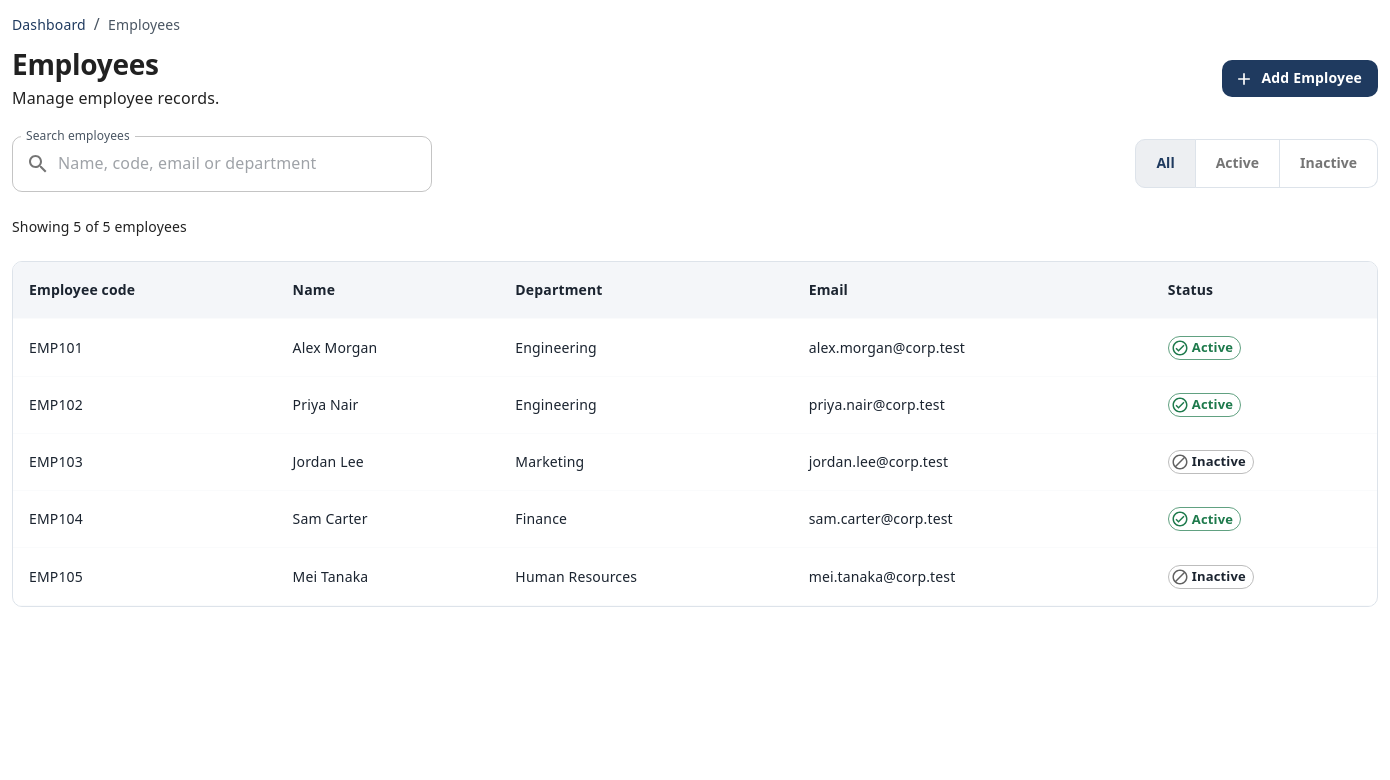
Scenario: searching and filtering › explains when nothing matches, and Clear filters brings everyone back
expect the text "Showing 5 of 5 employees" is shown: met, box [12,217,187,236]
In the search field labelled "Search employees": (245, 164) [58,136,432,192], type "zzz"
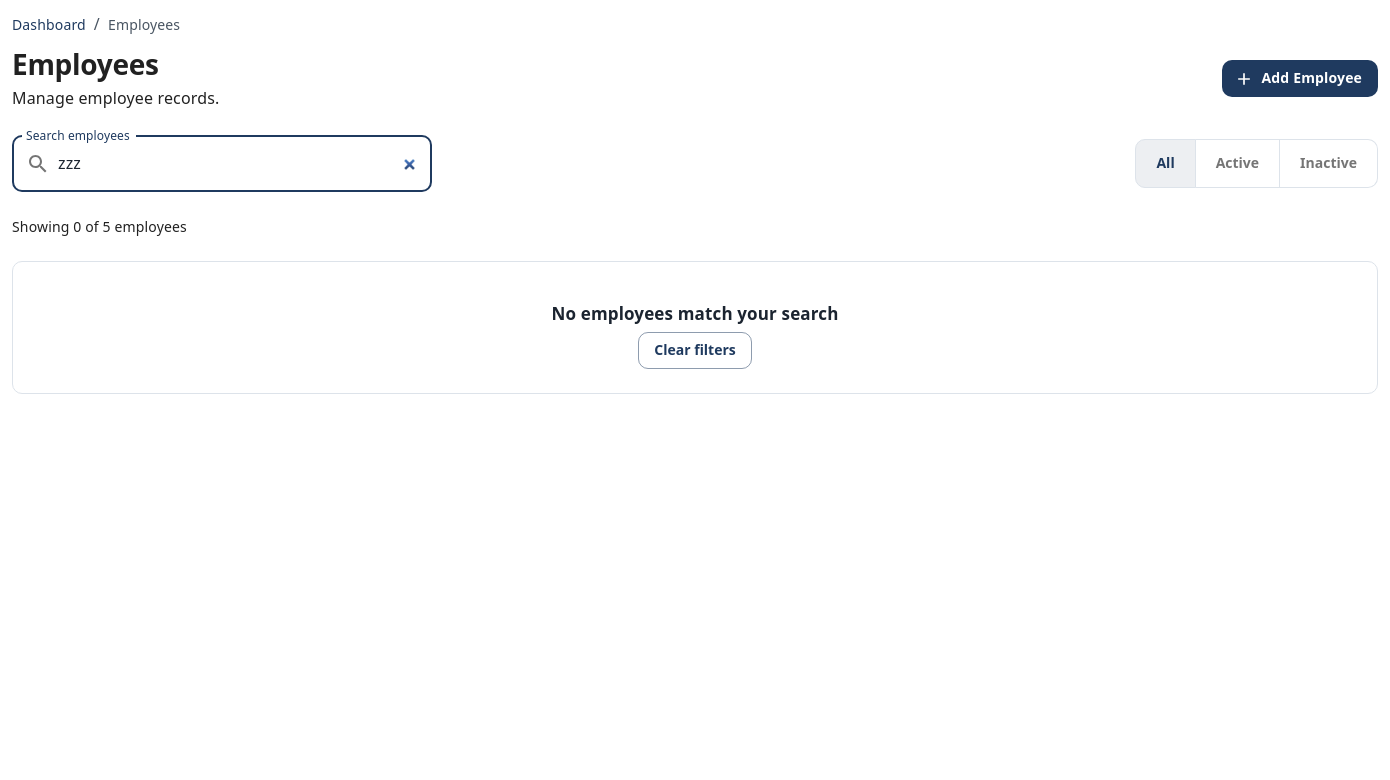
Click the button "Inactive": (1329, 164) [1279,139,1378,188]
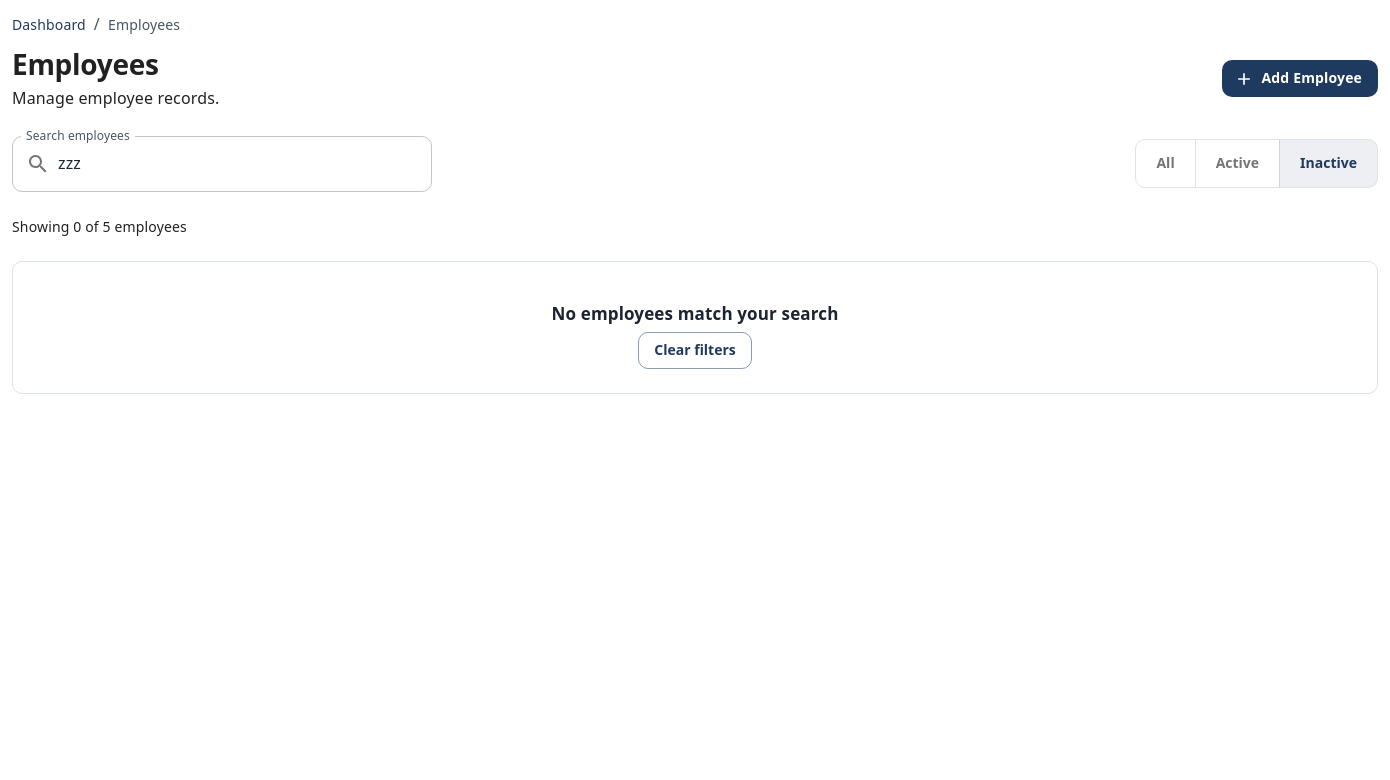
expect the heading "No employees match your search" is shown: met, box [552,302,838,325]
expect the text "Showing 0 of 5 employees" is shown: met, box [12,217,187,236]
Click the button "Clear filters": (695, 350) [638,332,752,368]
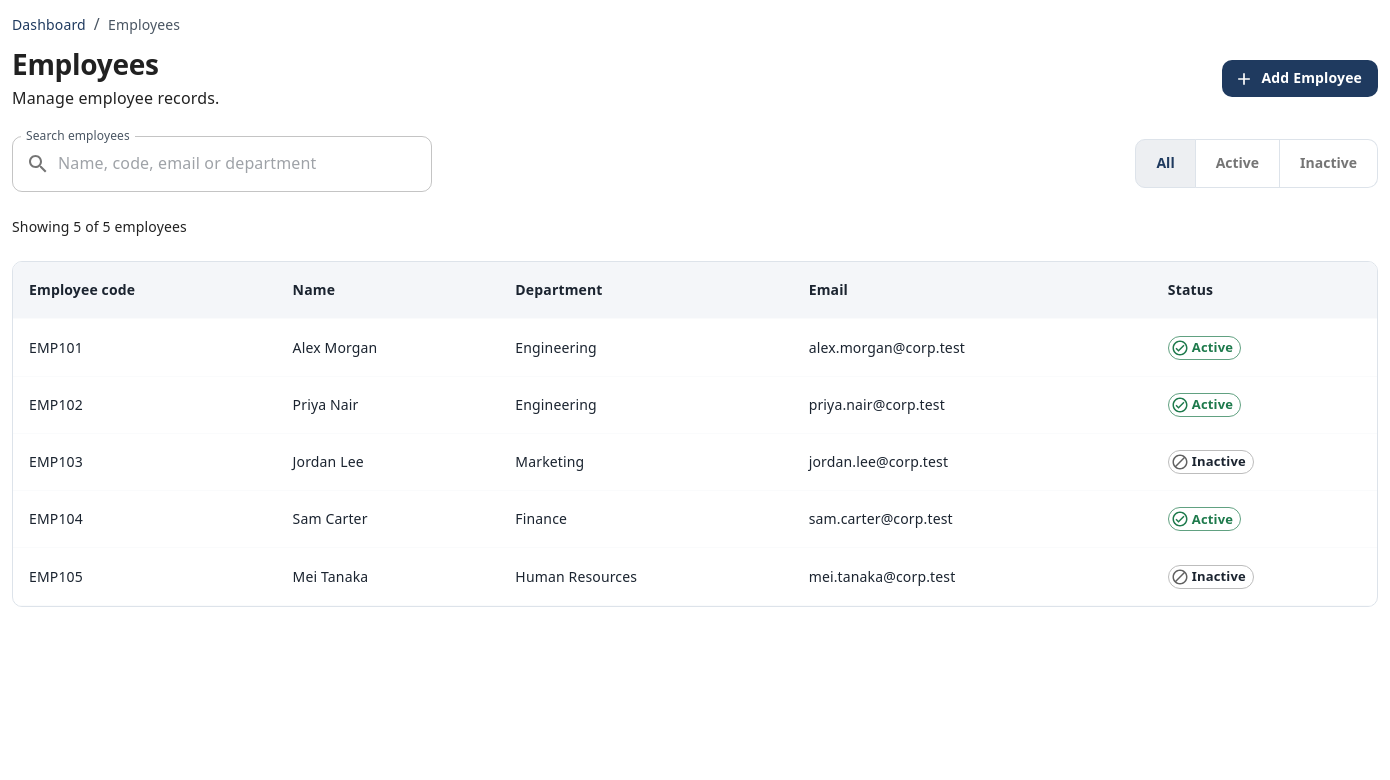
expect the search field labelled "Search employees" is empty: met, box [58,136,432,192]
